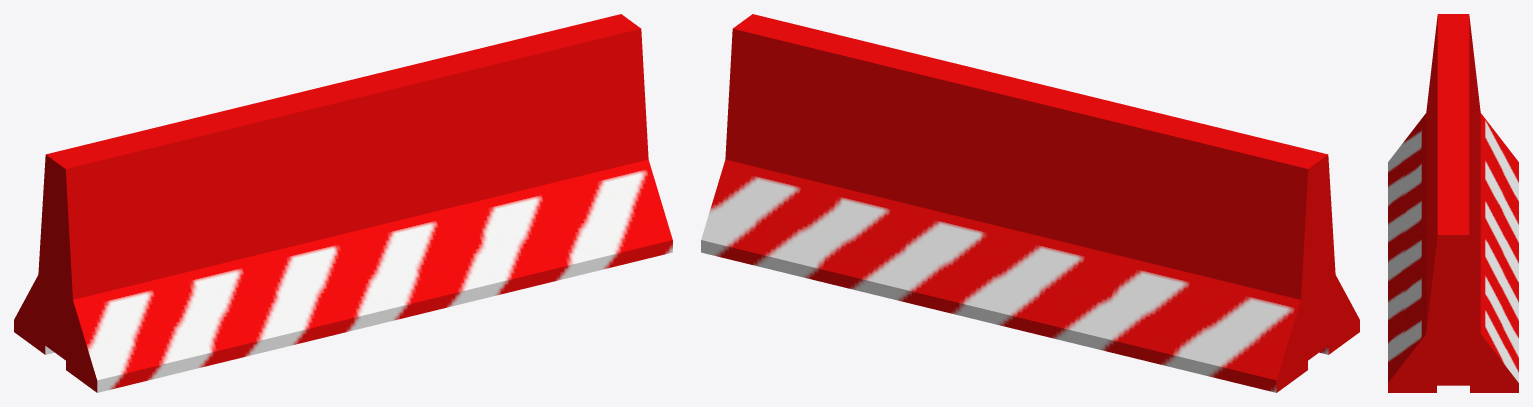
Rendered from barior_2.fbx.
3 views of the same model, side by side, from view 1: azimuth 30°, elevation 25°; view 2: azimuth 150°, elevation 25°; view 3: azimuth 270°, elevation 25° (orthographic). The views are drawn at different scales.
Visible parts, largest first — view 1: Barricada_Concreto__6.001; view 2: Barricada_Concreto__6.001; view 3: Barricada_Concreto__6.001.
Part boxes in pixels (box(x1,y1,x2,y2)): Barricada_Concreto__6.001: box(14, 14, 672, 392); Barricada_Concreto__6.001: box(701, 14, 1359, 392); Barricada_Concreto__6.001: box(1388, 14, 1518, 392).
Bounding box in the file's own units: 43.46 × 14.49 × 10.87.
